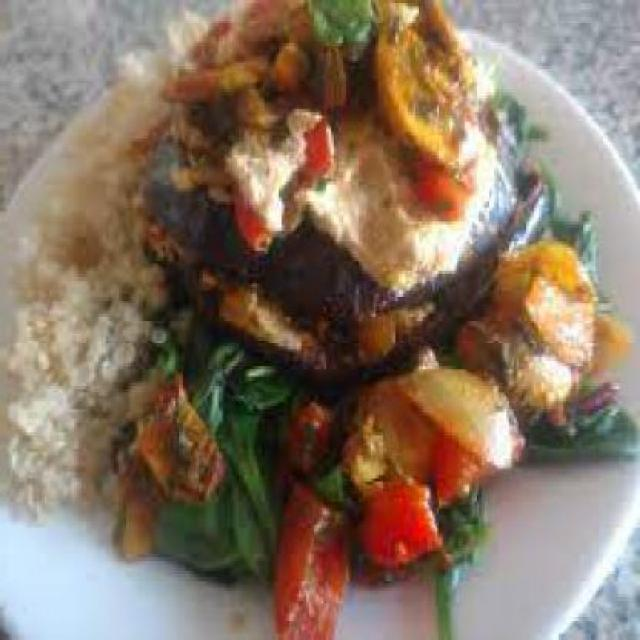eggplant: (160, 122, 566, 376)
fried rice: (2, 20, 195, 518)
greek salad: (121, 215, 630, 630)
hummus: (222, 105, 516, 258)
